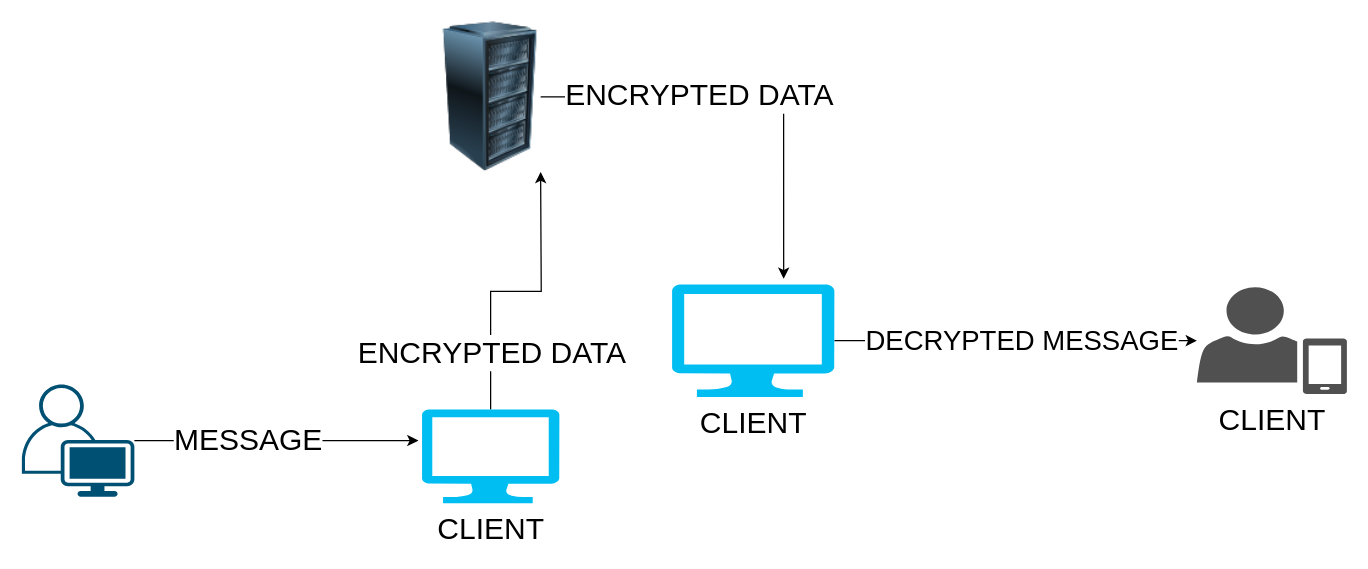
Image size: 1368x569. Some labels were removed from this diagram. The centre of each missing label's shape, as x and y in pixels:
SERVER: (490,96)
USER: (77,440)
